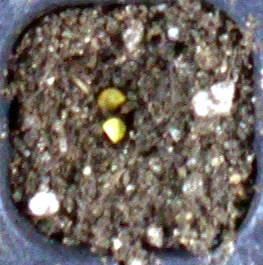chilli seed: (102, 117, 126, 143), (96, 88, 126, 107)
